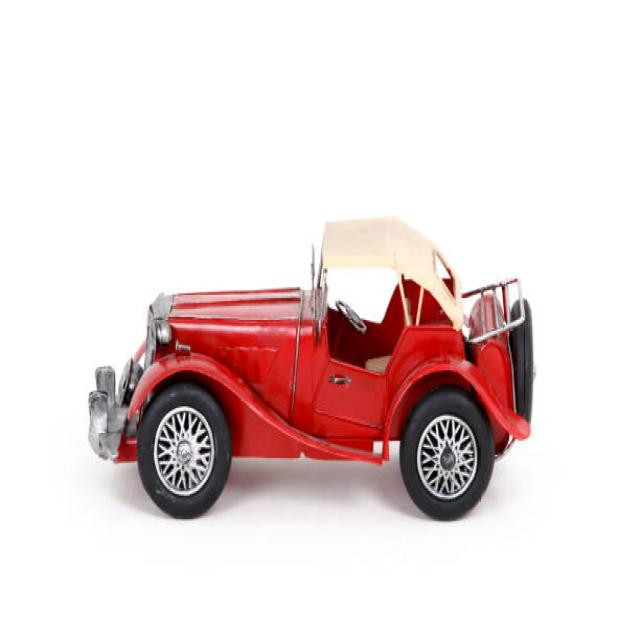Car: (87, 213, 535, 522)
